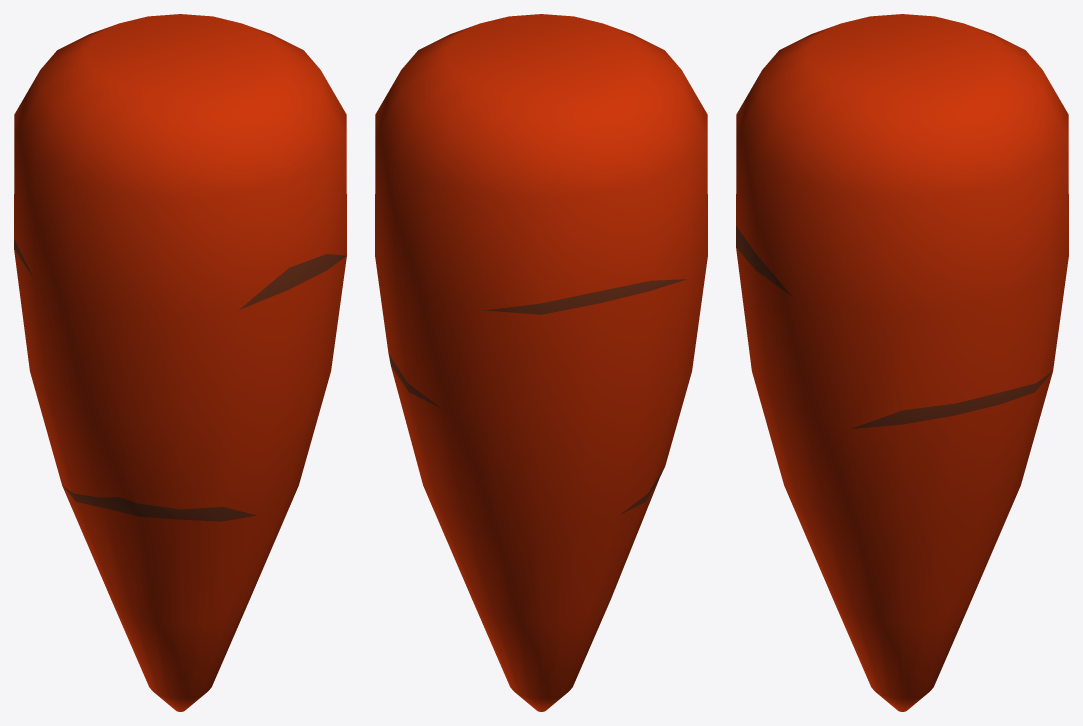
Rendered from Carrot.fbx.
The picture shows the model from 3 angles, left to right: view 1: azimuth 30°, elevation 25°; view 2: azimuth 150°, elevation 25°; view 3: azimuth 270°, elevation 25°; orthographic projection.
Visible parts, largest first — view 1: KCarrot; view 2: KCarrot; view 3: KCarrot.
Part boxes in pixels (<box>): KCarrot: <box>14,14,346,711</box>; KCarrot: <box>375,14,707,711</box>; KCarrot: <box>736,14,1068,711</box>.
Size of the model in its own units: 21.02 by 44.97 by 20.7.
